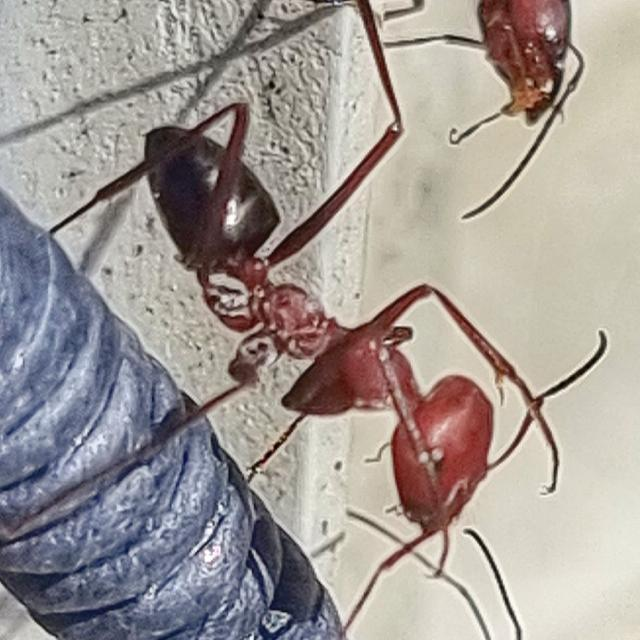Cataglyphis: (122, 109, 588, 596), (367, 0, 627, 134)
